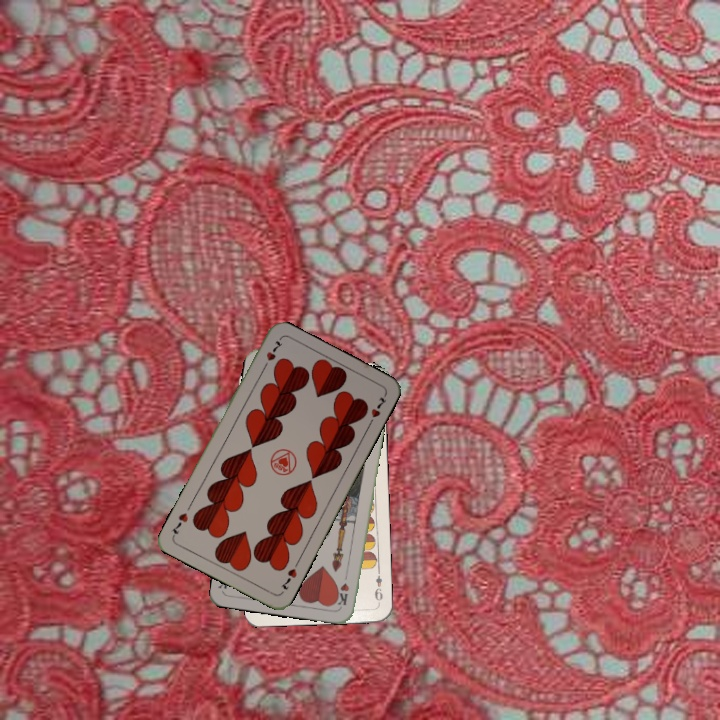E9: (371, 566, 385, 606)
H7: (258, 335, 285, 373), (277, 557, 301, 592)
HK: (333, 568, 352, 608)
